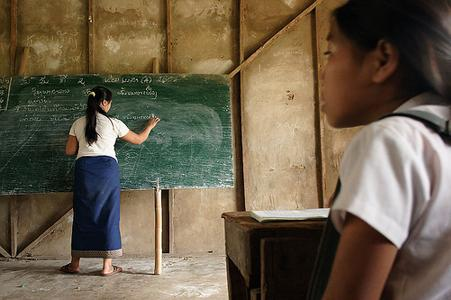person: (64, 85, 158, 277)
